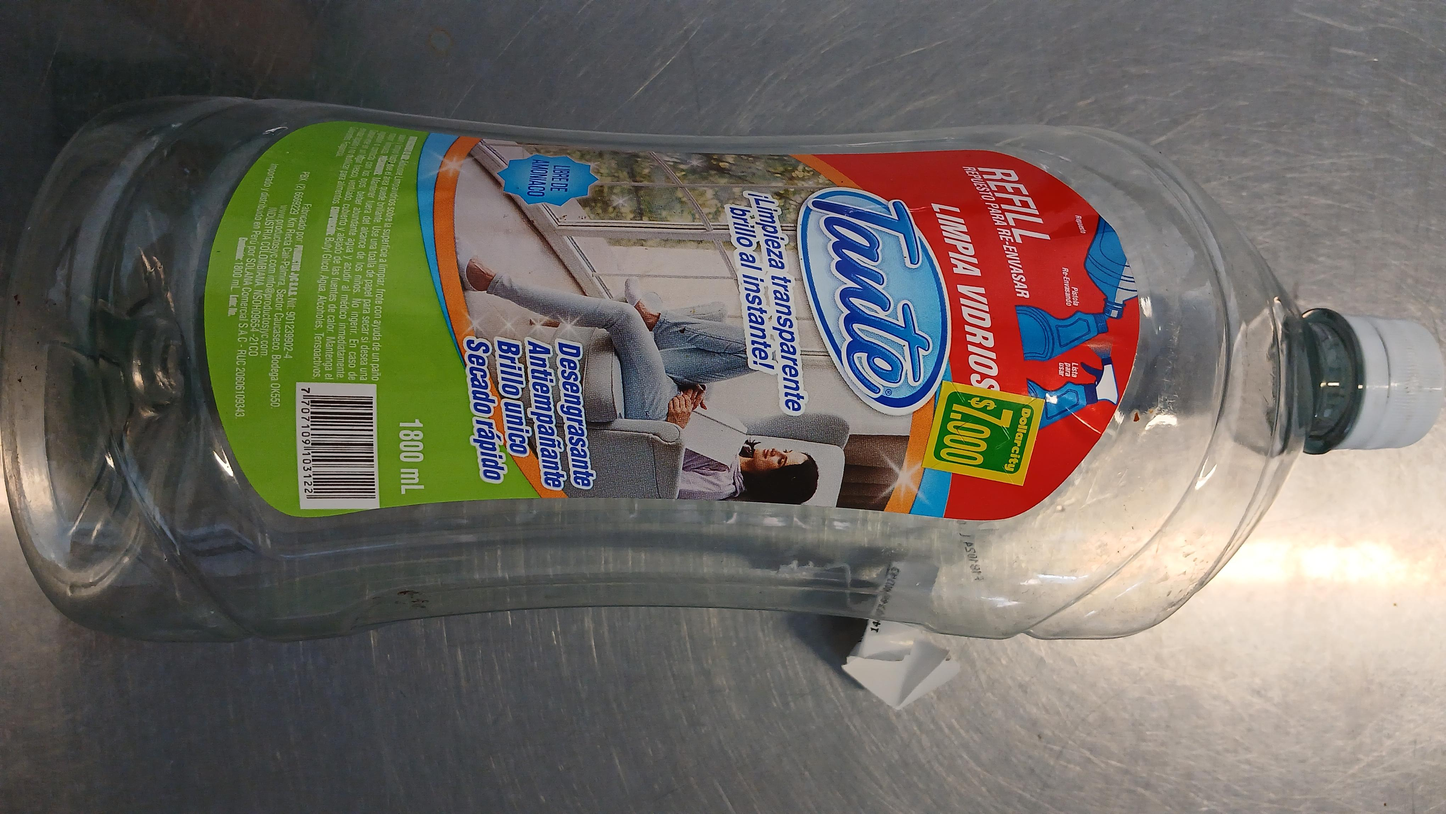Plastico: (6, 97, 1446, 639)
